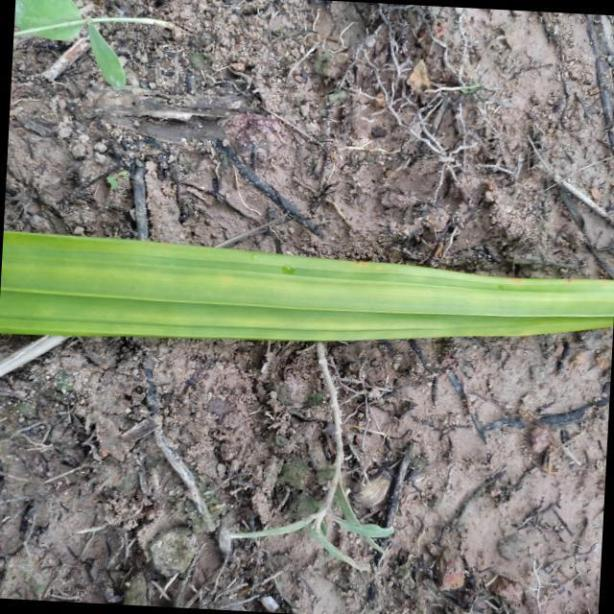nitrogen: (5, 227, 614, 342)
